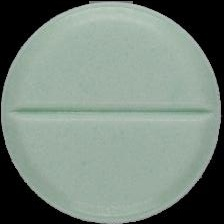54868-0218: (0, 0, 224, 224)
